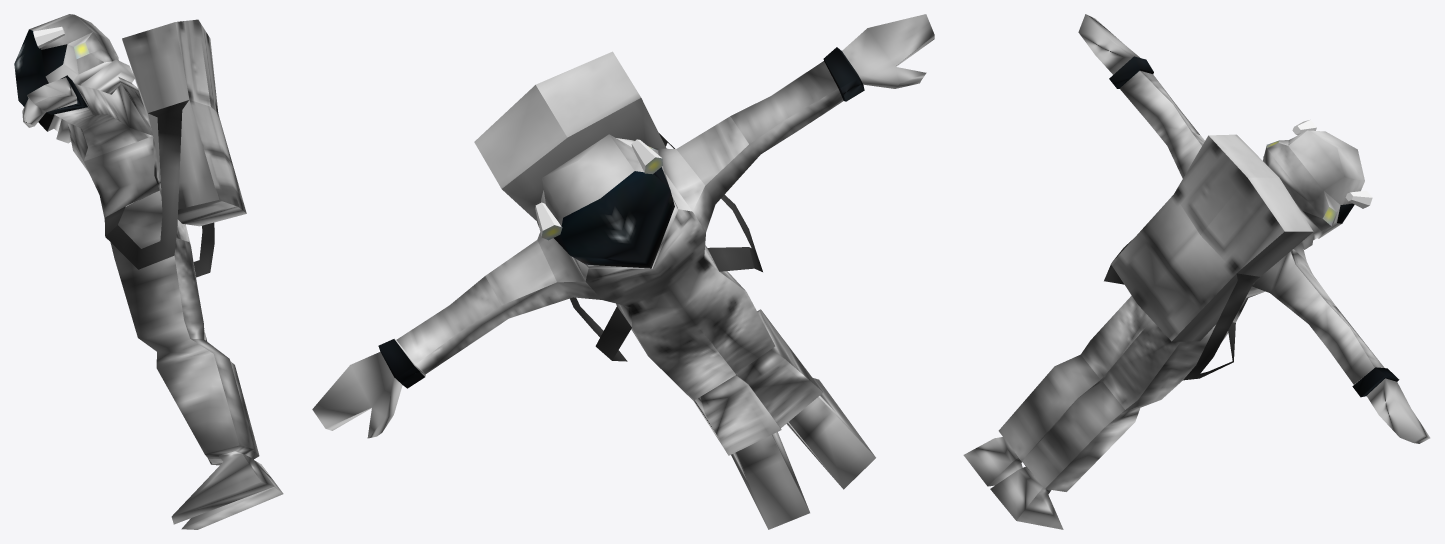
Rendered from astronaut with rig.fbx.
3 renders of one model, left to right at view 1: azimuth 30°, elevation 25°; view 2: azimuth 150°, elevation 25°; view 3: azimuth 270°, elevation 25°, orthographic. The views are drawn at different scales.
Visible parts, largest first — view 1: SpaceMan_Sketchfab.003; view 2: SpaceMan_Sketchfab.003; view 3: SpaceMan_Sketchfab.003.
Part boxes in pixels (x1,y1,x2,y2): SpaceMan_Sketchfab.003: (14,14,283,529); SpaceMan_Sketchfab.003: (312,14,934,529); SpaceMan_Sketchfab.003: (963,14,1430,529).
Size of the model in its own units: 8.74 by 11.34 by 10.67.
